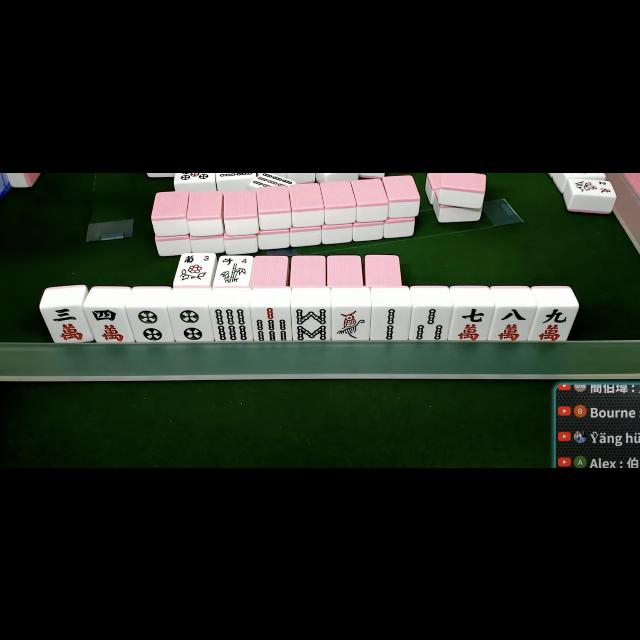b1: (333, 306, 369, 338)
b2: (372, 306, 408, 339)
b3: (412, 306, 448, 340)
b6: (211, 306, 251, 342)
b7: (252, 306, 290, 342)
b8: (292, 306, 330, 342)
c3: (46, 306, 88, 342)
c4: (90, 306, 128, 342)
c7: (452, 306, 490, 340)
c8: (493, 306, 529, 342)
c9: (532, 306, 574, 342)
d2: (131, 306, 171, 342), (170, 307, 210, 341)
f3: (181, 253, 211, 267)
f4: (218, 254, 250, 266)
s2: (597, 180, 613, 194)
